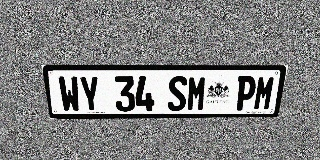3: (114, 76, 135, 112)
4: (135, 76, 154, 111)
M: (252, 76, 276, 110), (186, 76, 207, 111)
P: (234, 76, 257, 110)
S: (168, 76, 188, 111)
W: (57, 76, 81, 112)
Y: (78, 76, 101, 112)
